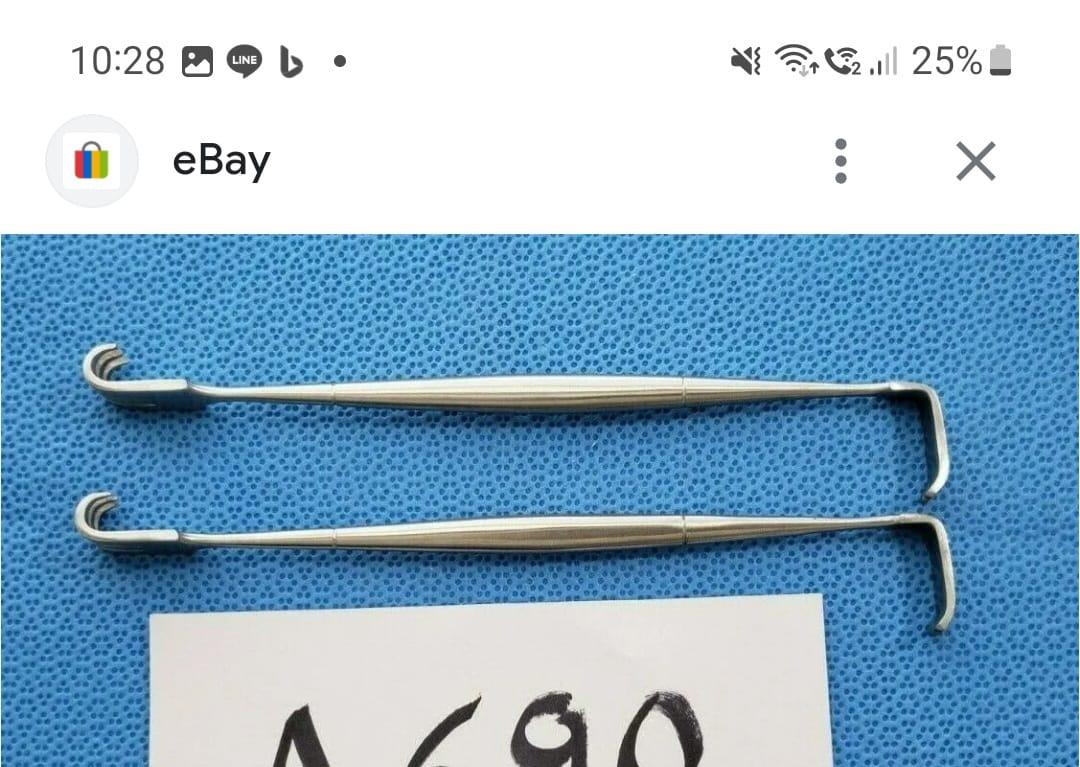Senn Retractor: (78, 323, 960, 500), (69, 479, 960, 630)
